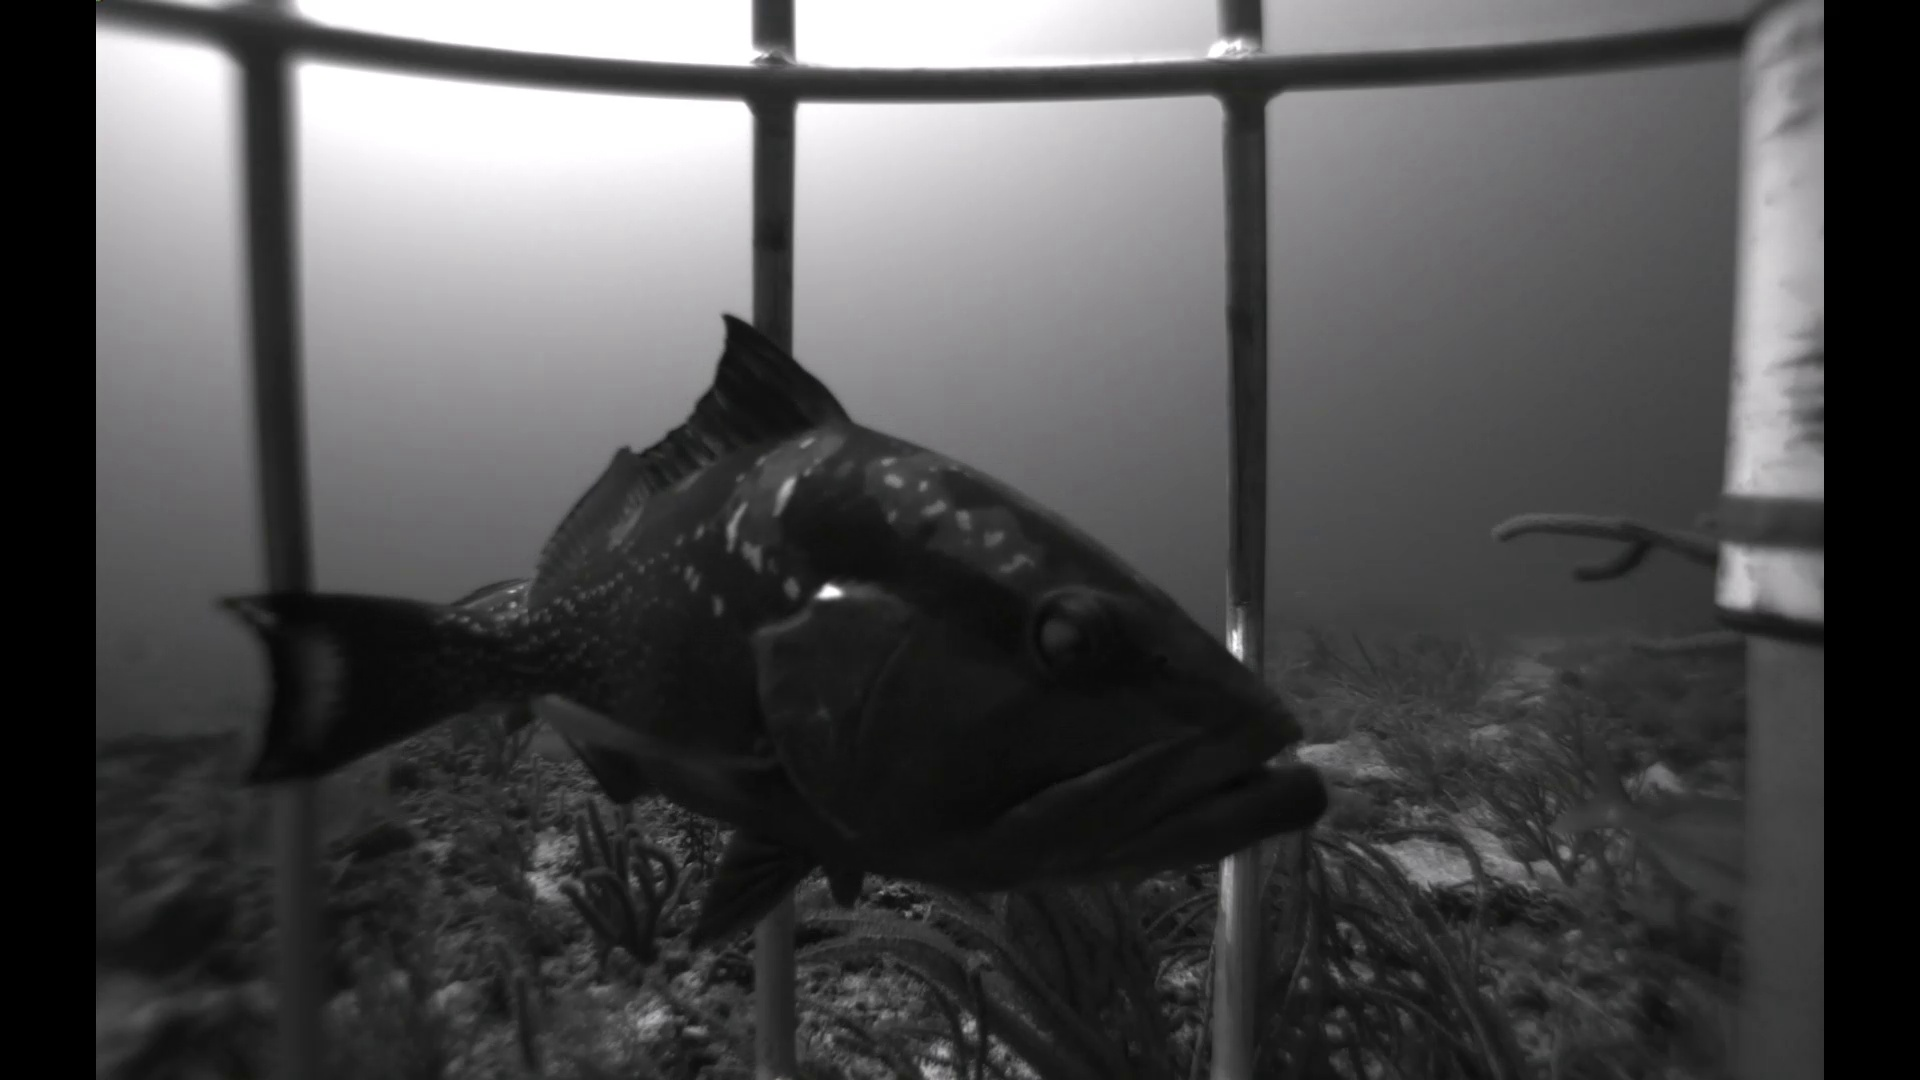CALAMUSNODOSUS-170210608: (1538, 723, 1754, 924), (220, 760, 411, 884)
EPINEPHELUSMORIO-170021211: (189, 301, 1317, 945), (426, 560, 549, 738)
